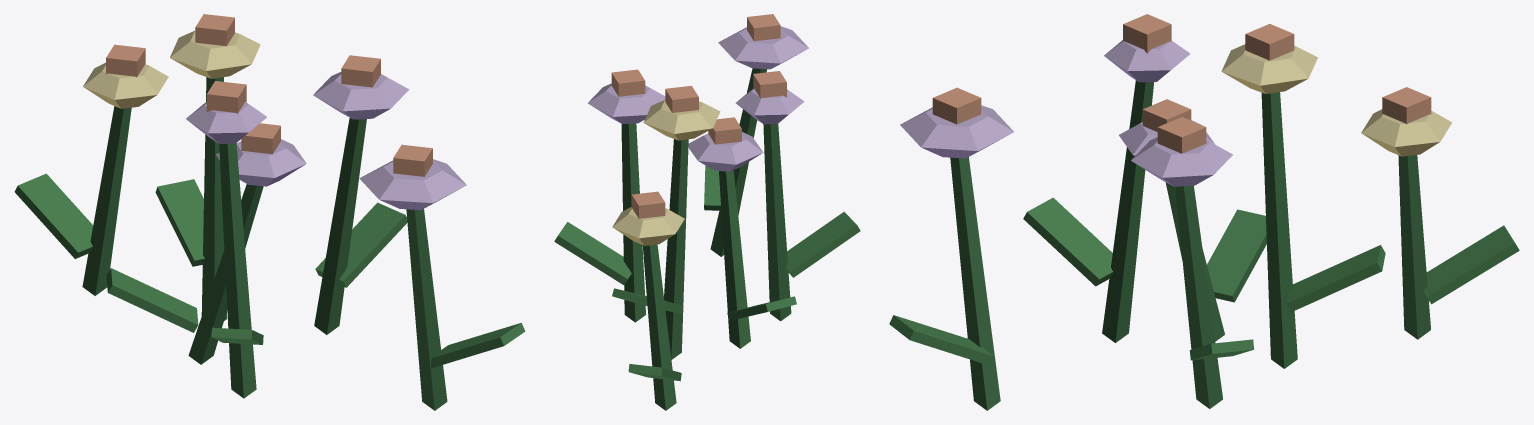
The model's file is flowers.glb.
3 views of the same model, side by side, from view 1: azimuth 30°, elevation 25°; view 2: azimuth 150°, elevation 25°; view 3: azimuth 270°, elevation 25° (orthographic). The views are drawn at different scales.
Visible parts, largest first — view 1: flowers; view 2: flowers; view 3: flowers.
Boxes of the visible parts, left/top/right/bottom form: flowers: left=14, top=14, right=525, bottom=410; flowers: left=554, top=14, right=860, bottom=410; flowers: left=889, top=14, right=1519, bottom=410.
Size of the model in its own units: 0.4099 by 0.4163 by 0.7311.
